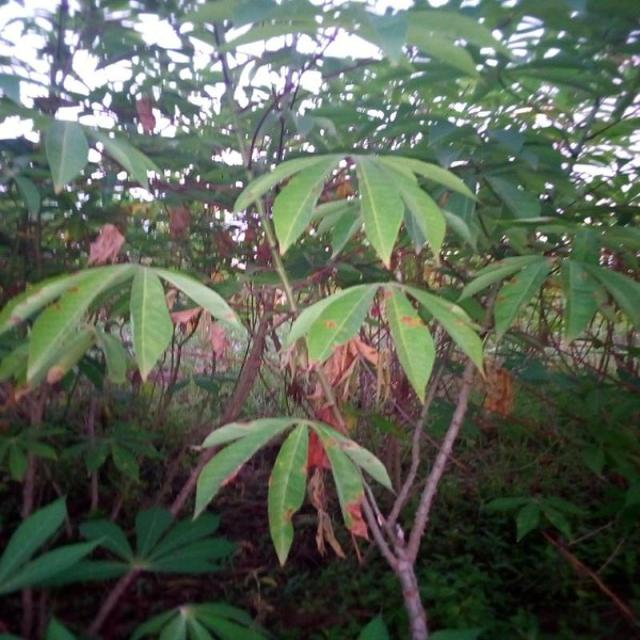cassava leaf: (1, 260, 247, 390), (192, 414, 394, 566), (280, 280, 486, 403)
